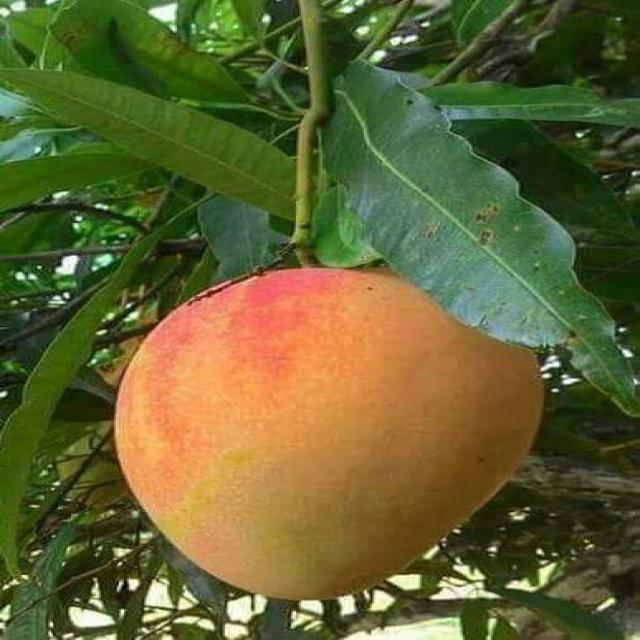mango: (118, 269, 542, 599)
